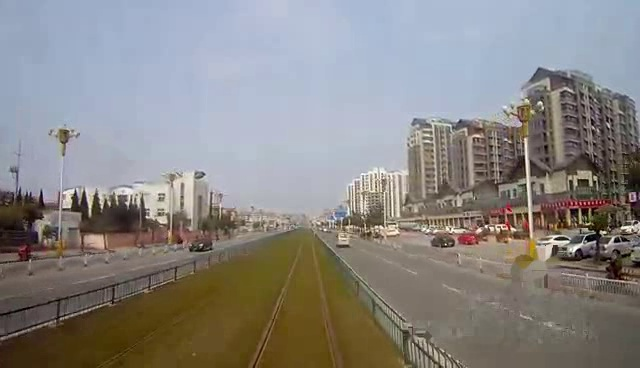car: (186, 236, 216, 253)
